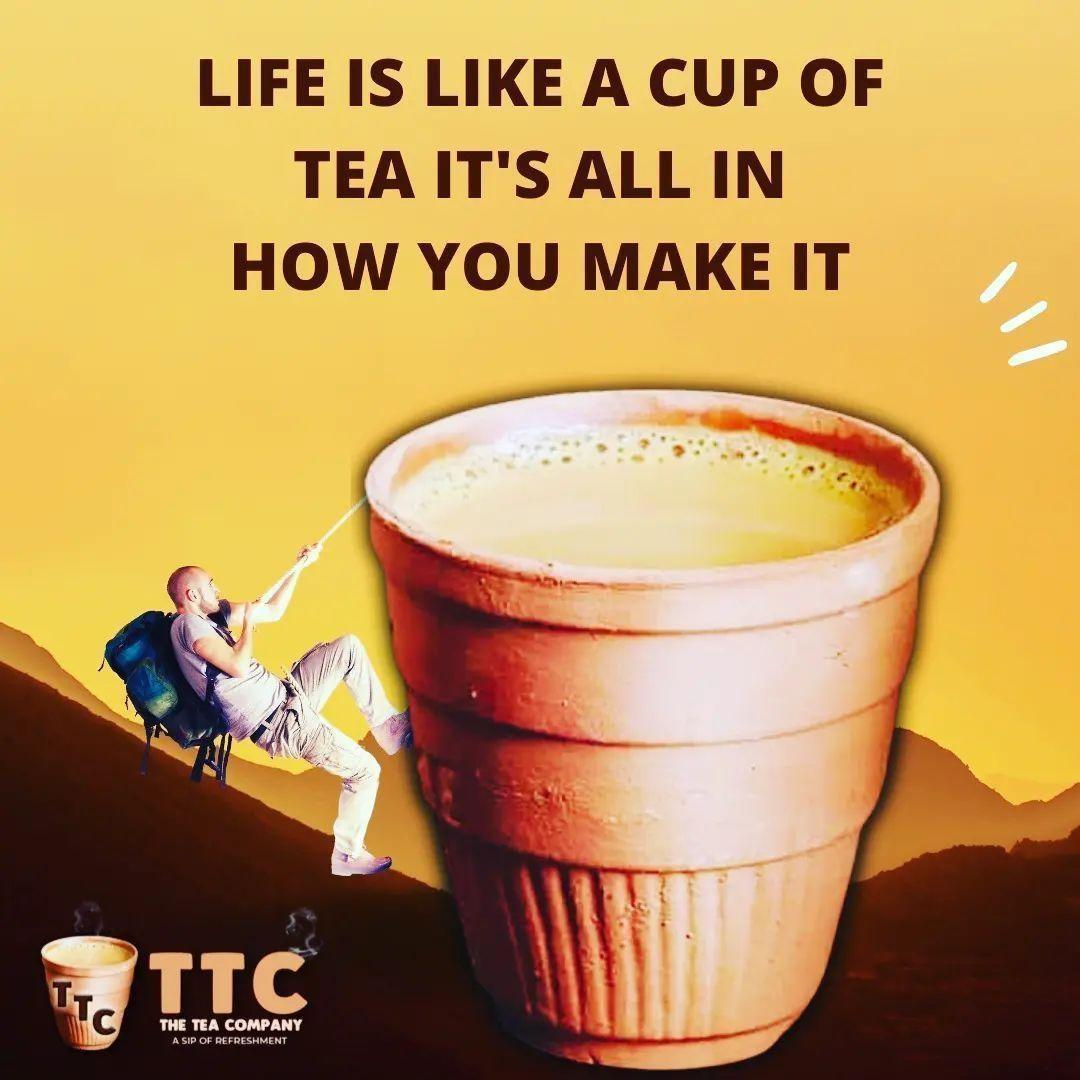cup-disposable: (351, 363, 957, 1080)
